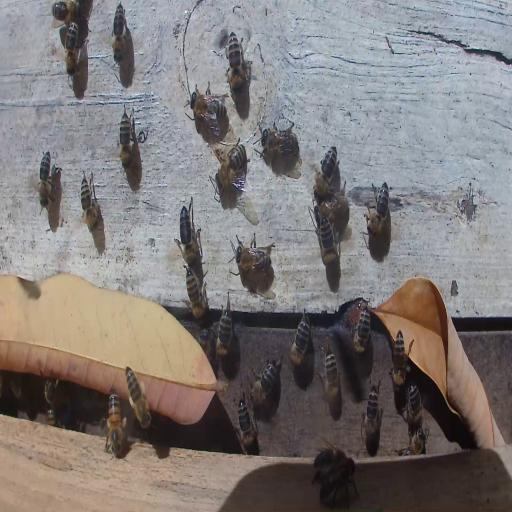nonpollenbee: (233, 234, 276, 281), (248, 352, 283, 408), (175, 198, 201, 268), (258, 124, 298, 168), (321, 459, 359, 503), (224, 30, 250, 94), (215, 144, 249, 190), (188, 88, 227, 127), (365, 180, 391, 237), (361, 381, 383, 446), (313, 438, 348, 477), (80, 171, 102, 231), (289, 309, 311, 368), (314, 146, 338, 198), (321, 346, 342, 405), (236, 397, 257, 454), (318, 210, 337, 272), (184, 268, 206, 321), (350, 302, 372, 355), (118, 105, 133, 172), (393, 331, 408, 397), (320, 189, 350, 222), (112, 2, 126, 64), (62, 22, 78, 74), (38, 149, 52, 208), (51, 1, 83, 26), (218, 302, 232, 358), (406, 381, 422, 429), (406, 426, 428, 454), (44, 379, 58, 409), (46, 407, 60, 426)
pollenbee: (125, 365, 151, 429), (107, 393, 124, 443)
